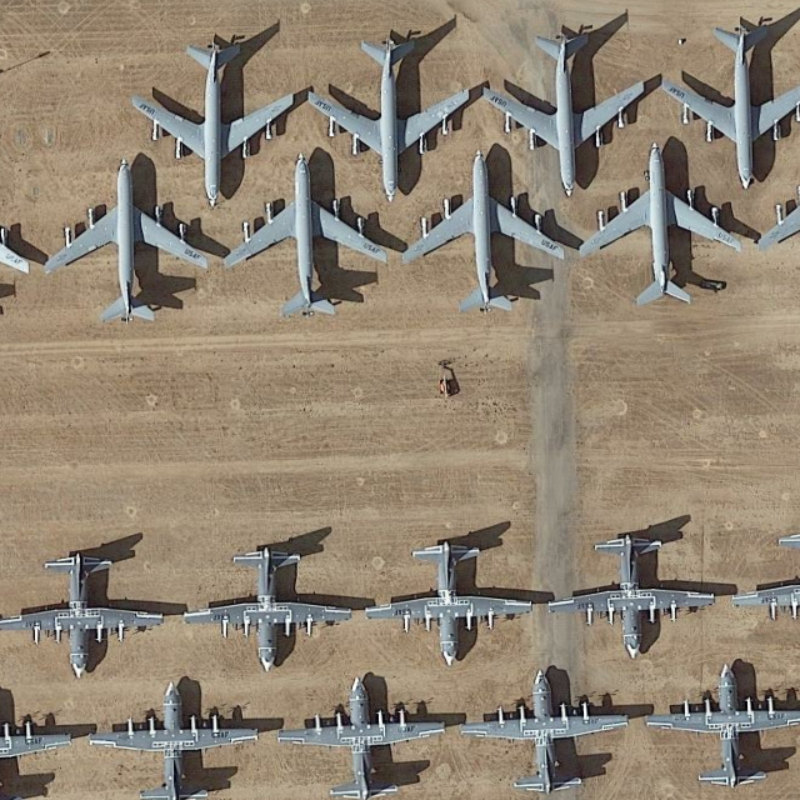A14: (36, 153, 220, 333), (126, 32, 304, 207), (305, 24, 475, 206), (478, 26, 651, 199), (223, 150, 393, 325), (399, 148, 573, 316), (577, 140, 747, 311), (657, 16, 800, 189)
A2: (544, 520, 719, 666), (363, 534, 543, 674), (79, 672, 266, 800), (180, 540, 358, 671), (458, 667, 632, 798), (2, 547, 171, 681), (270, 672, 445, 800), (645, 660, 800, 787)
